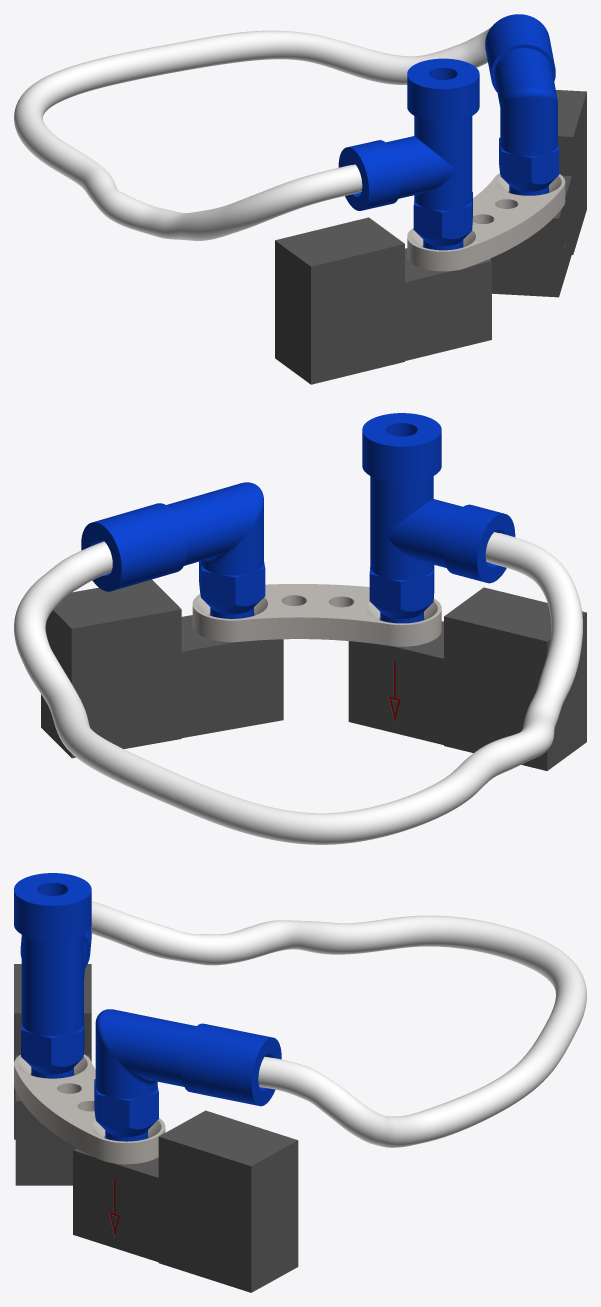
The model's file is modal13.fbx.
3 renders of one model, top to bottom at view 1: azimuth 30°, elevation 25°; view 2: azimuth 150°, elevation 25°; view 3: azimuth 270°, elevation 25°, orthographic. The views are drawn at different scales.
Visible parts, largest first — view 1: 切除-拉伸4 (×2), 凸台-拉伸7 (×2), 切除-拉伸-薄壁2, 切除-拉伸3; view 2: 切除-拉伸4 (×2), 凸台-拉伸7 (×2), 切除-拉伸-薄壁2, 切除-拉伸3; view 3: 切除-拉伸4 (×2), 凸台-拉伸7 (×2), 切除-拉伸-薄壁2, 切除-拉伸3.
Boxes of the visible parts, left/top/right/bottom form: 切除-拉伸4 (×2): left=275, top=90, right=586, bottom=384; 凸台-拉伸7 (×2): left=338, top=14, right=559, bottom=250; 切除-拉伸-薄壁2: left=14, top=27, right=491, bottom=240; 切除-拉伸3: left=407, top=173, right=565, bottom=271; 切除-拉伸4 (×2): left=41, top=579, right=586, bottom=770; 凸台-拉伸7 (×2): left=81, top=413, right=515, bottom=623; 切除-拉伸-薄壁2: left=14, top=532, right=582, bottom=844; 切除-拉伸3: left=192, top=584, right=441, bottom=646; 切除-拉伸4 (×2): left=14, top=964, right=298, bottom=1292; 凸台-拉伸7 (×2): left=14, top=873, right=281, bottom=1141; 切除-拉伸-薄壁2: left=91, top=901, right=586, bottom=1147; 切除-拉伸3: left=14, top=1054, right=165, bottom=1164.
Bounding box in the file's own units: 7.55 × 3.98 × 7.38.
